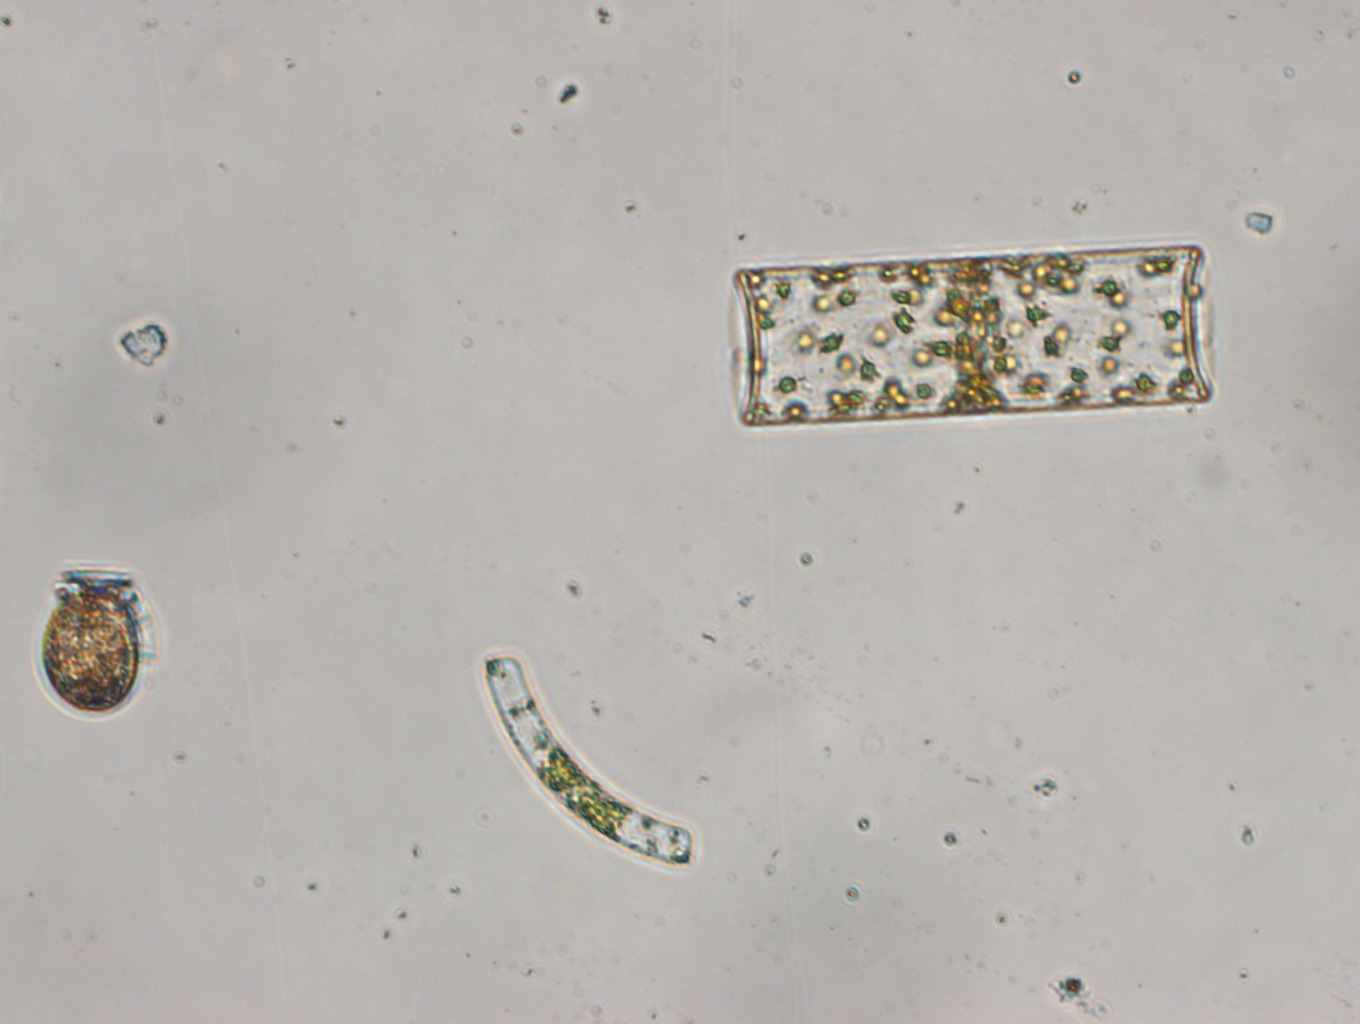guinardia flaccida: (732, 242, 1218, 428)
